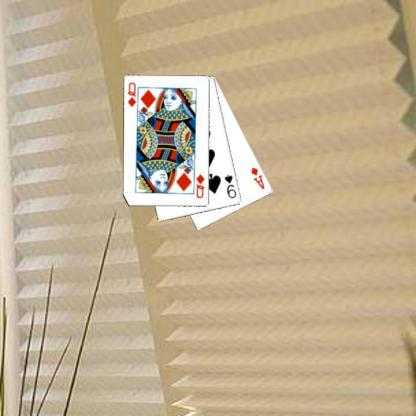9S: (223, 172, 238, 200)
AD: (248, 164, 266, 190)
QD: (126, 80, 138, 108), (194, 172, 206, 199)
